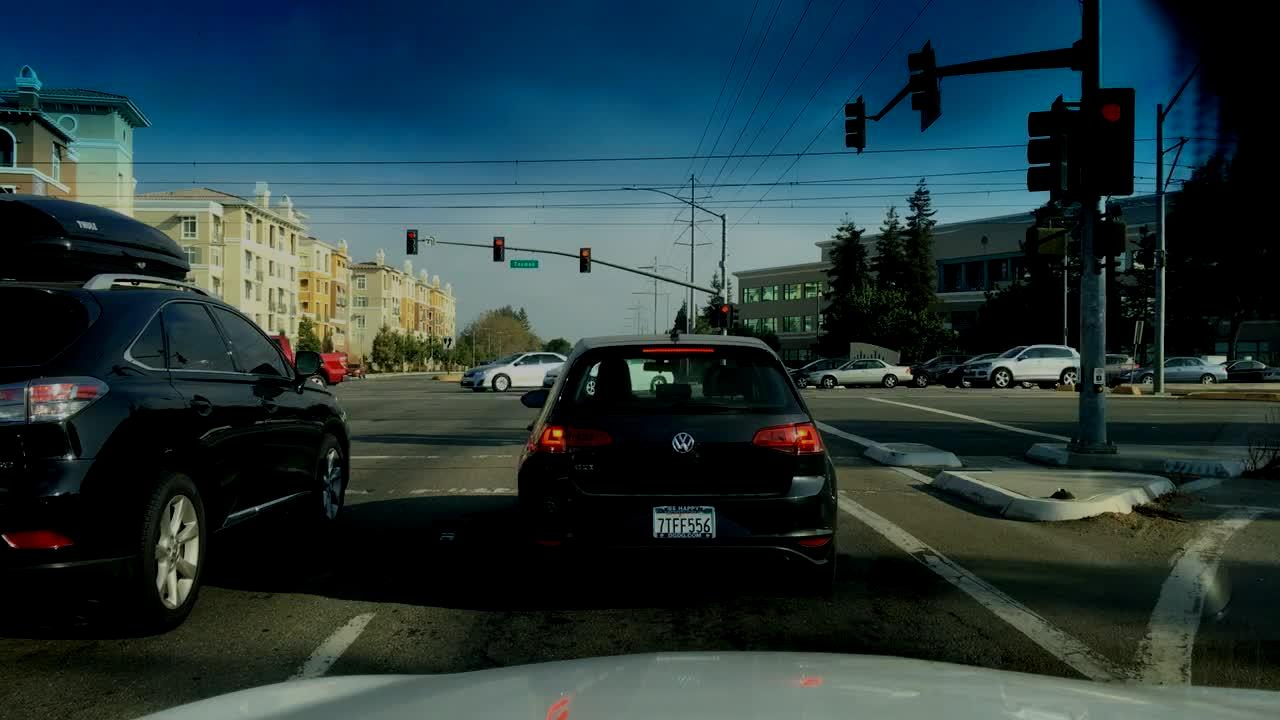Volkswagen: (671, 429, 697, 456)
